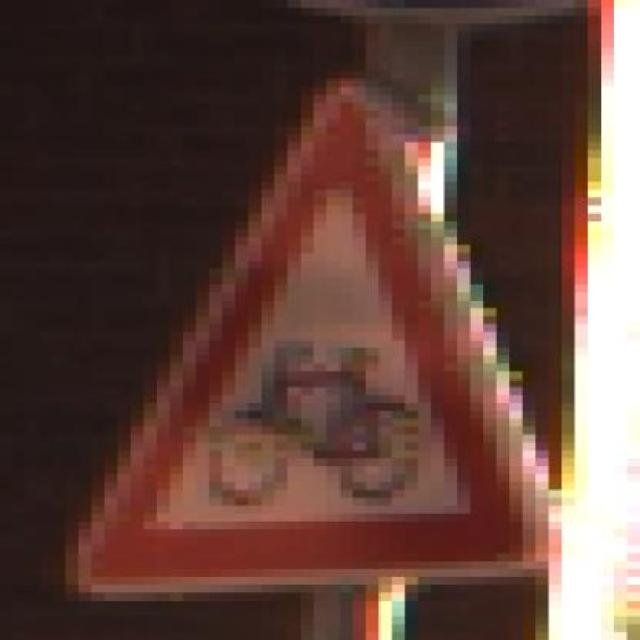CYCLE ROUTE AHEAD WARNING: (52, 54, 576, 608)
